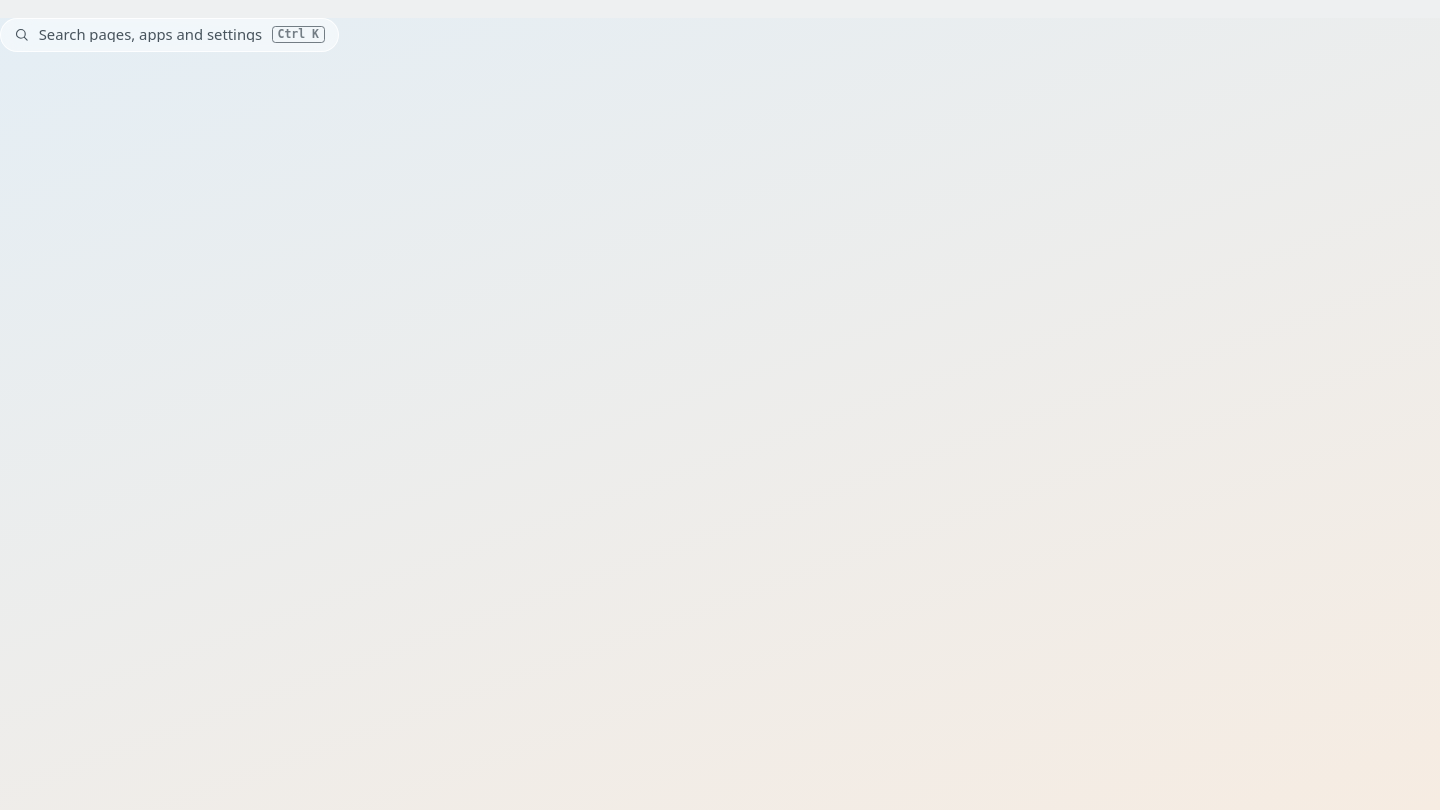
it: the command bar › says plainly that no assistant is set up, and stays a search box
The image size is (1440, 810).
Step 1. Press k
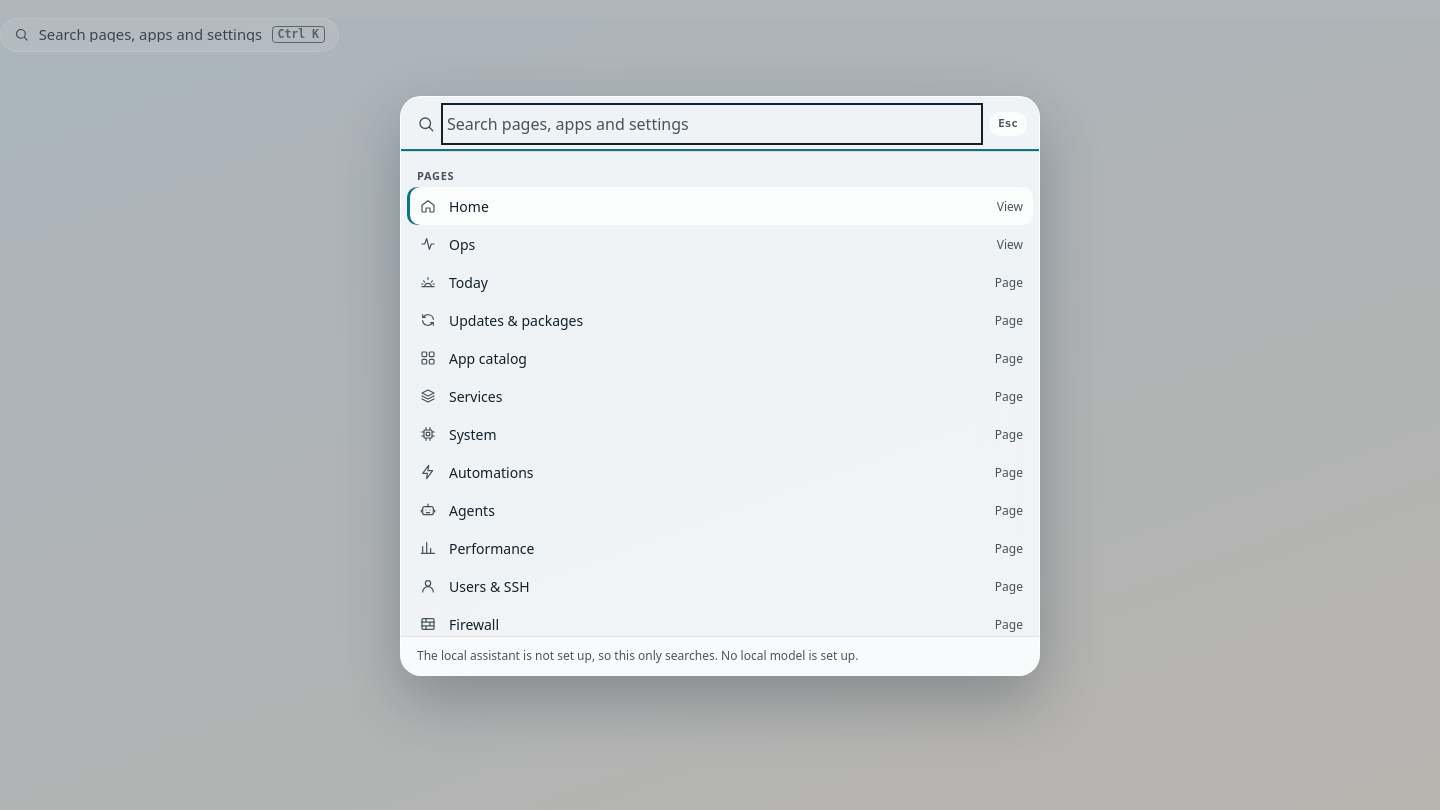
expect the text "The local assistant is not set up, so this only searches. No local model is set up." is shown: met, box [417, 647, 858, 664]
Step 2. Type "why did the backup fail" into the dropdown labelled "Search pages, apps and settings" → (712, 124), box [445, 107, 979, 141]
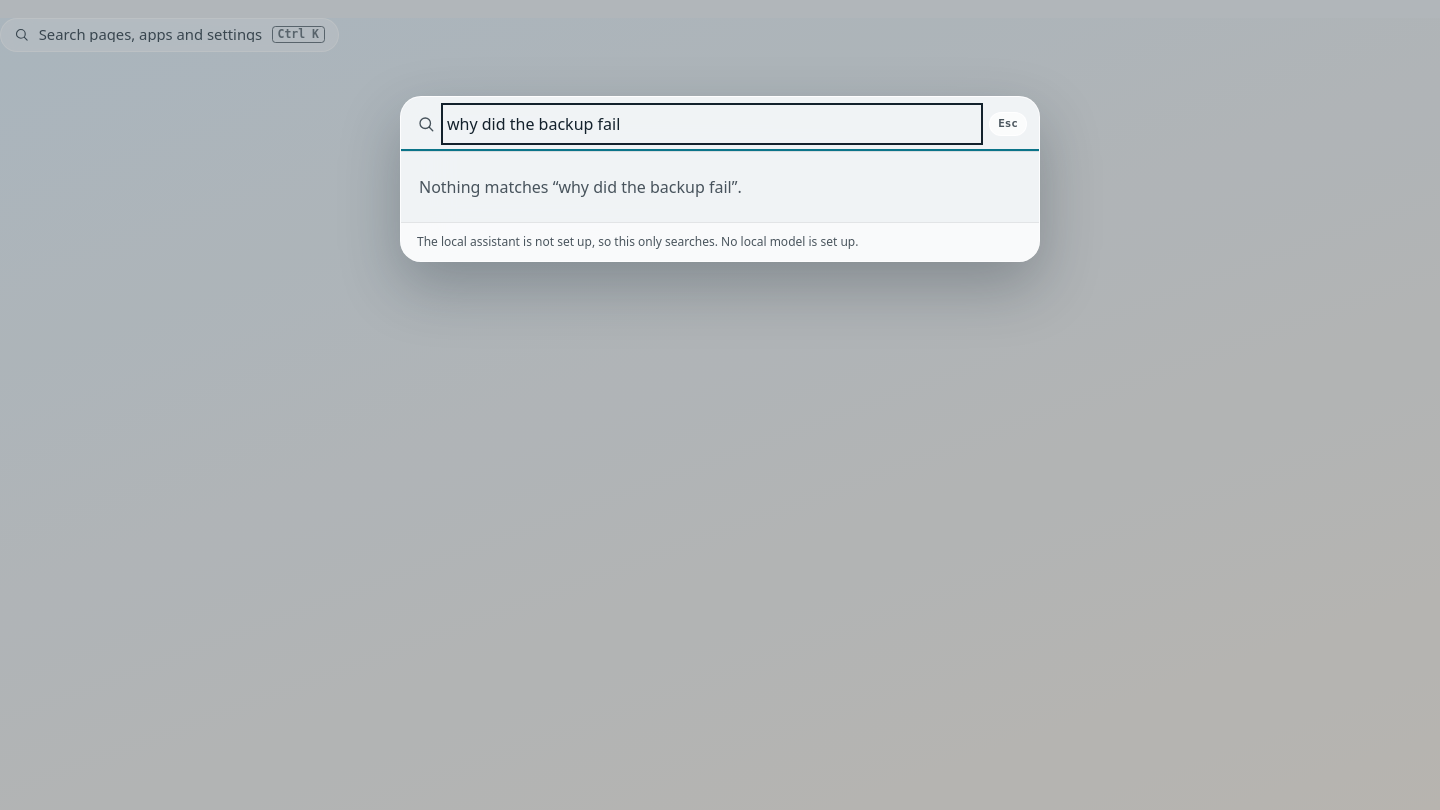
expect the text "Nothing matches why did the backup fail." is shown: met, box [419, 176, 742, 198]
